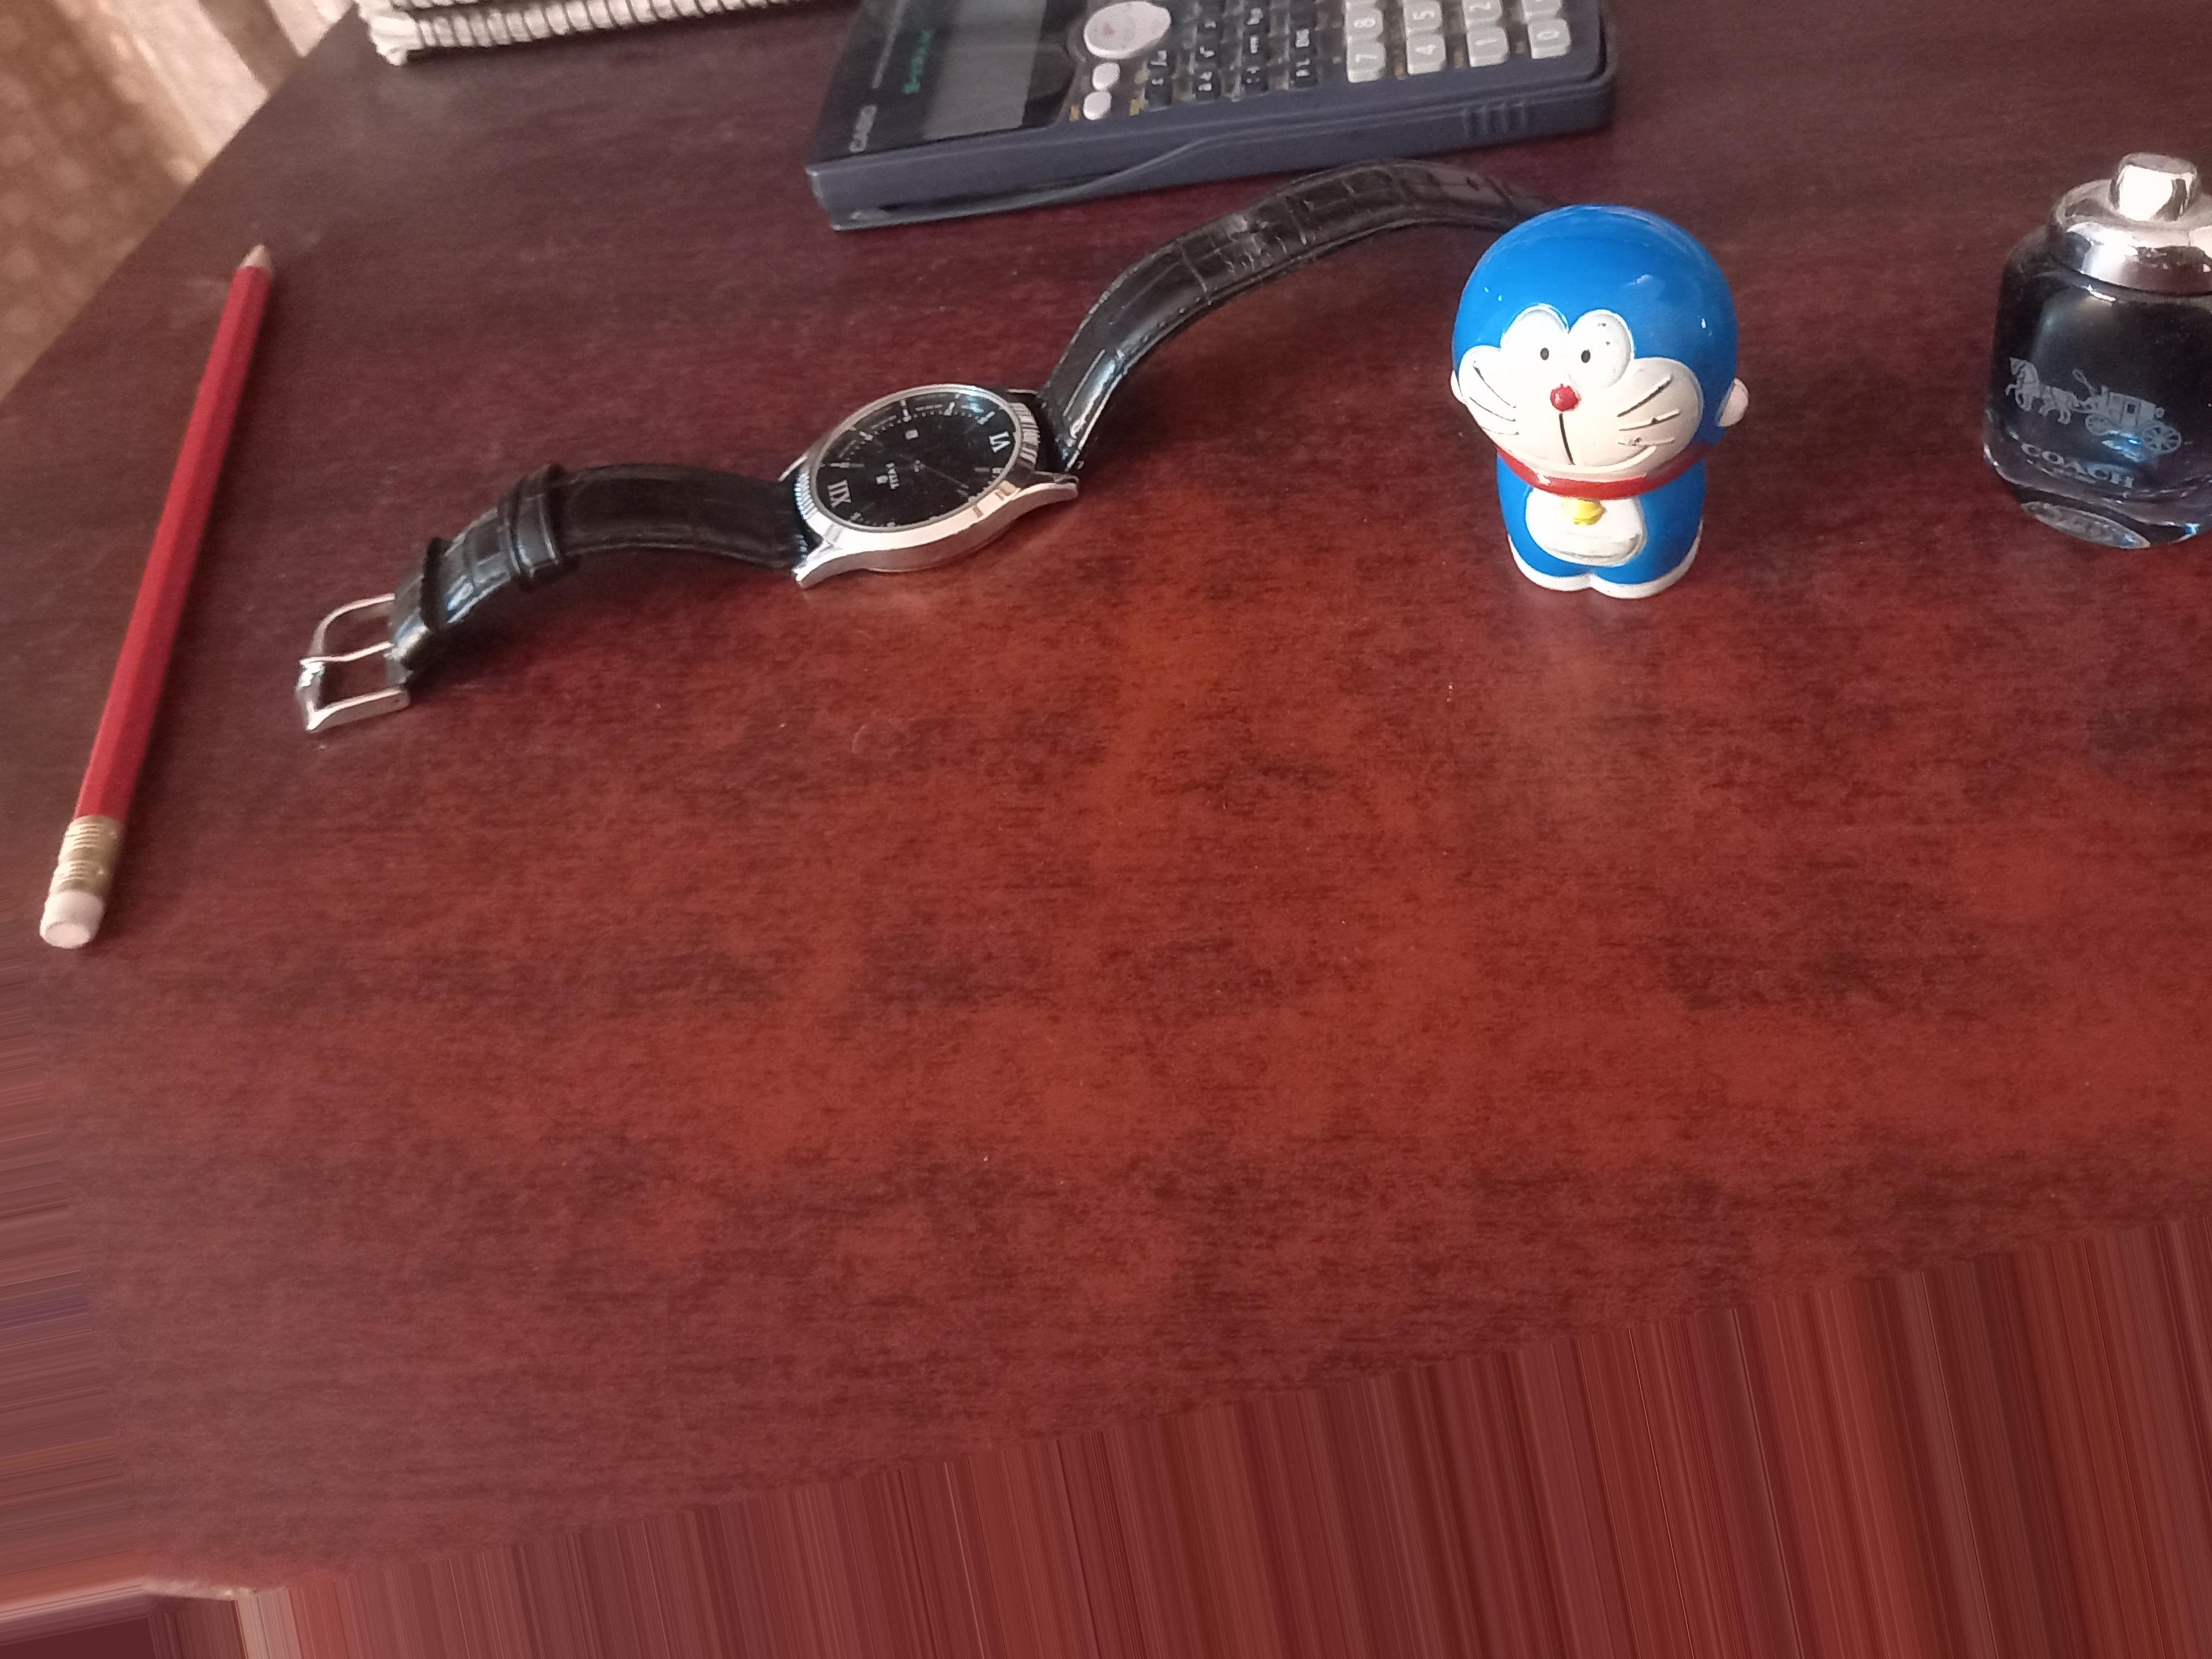calculator: (895, 0, 1362, 176)
doraemon: (1477, 242, 1735, 575)
pencil: (101, 247, 186, 992)
perfume: (2031, 160, 2212, 554)
watch: (685, 401, 1160, 610)
